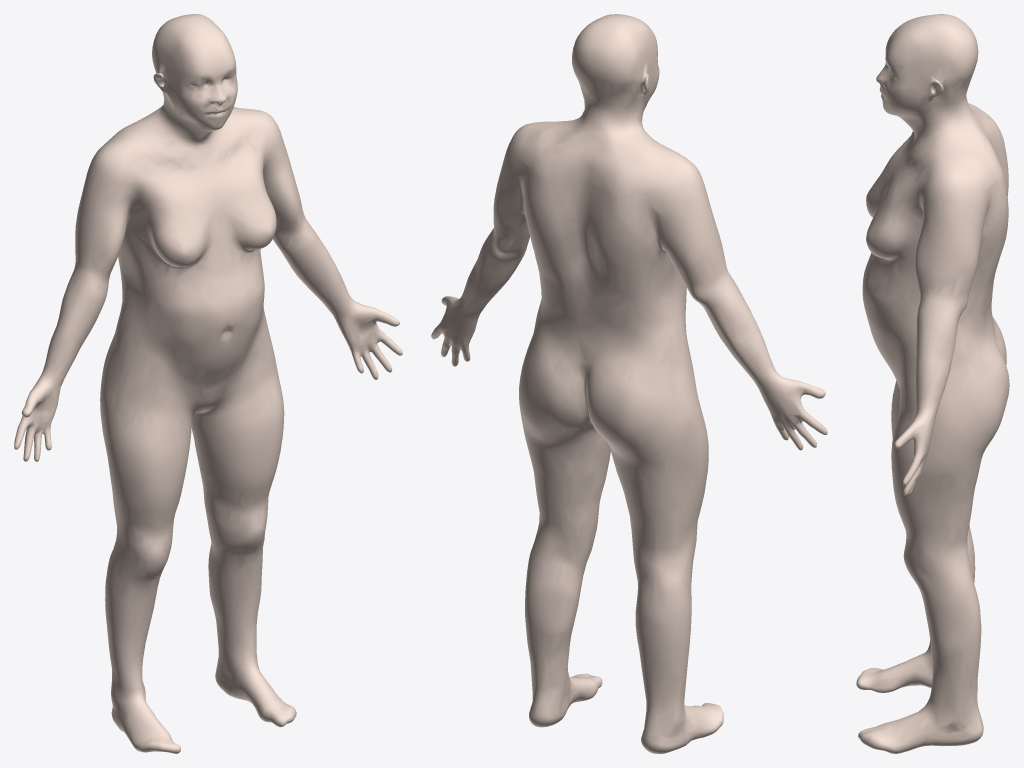
The model's file is female-human.glb.
The picture shows the model from 3 angles, left to right: view 1: azimuth 30°, elevation 25°; view 2: azimuth 150°, elevation 25°; view 3: azimuth 270°, elevation 25°; orthographic projection.
Parts seen in each view (by area): view 1: body; view 2: body; view 3: body.
Boxes of the visible parts, x1,y1,x2,y2 form: body: (14,14,402,753); body: (431,14,827,753); body: (856,14,1009,753).
Bounding box in the file's own units: 0.9673 × 1.67 × 0.3292.
